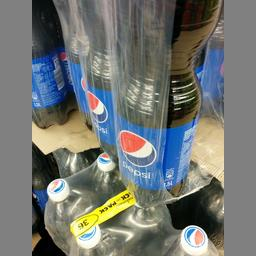soda: (113, 0, 222, 207), (78, 0, 116, 159), (31, 0, 73, 128)
